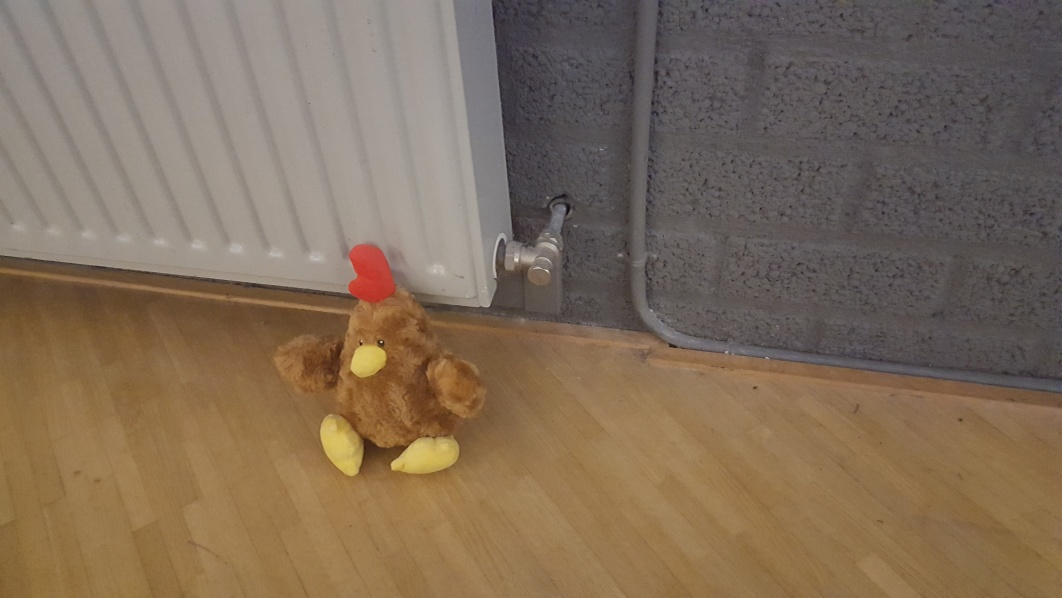chicken: (271, 240, 499, 475)
